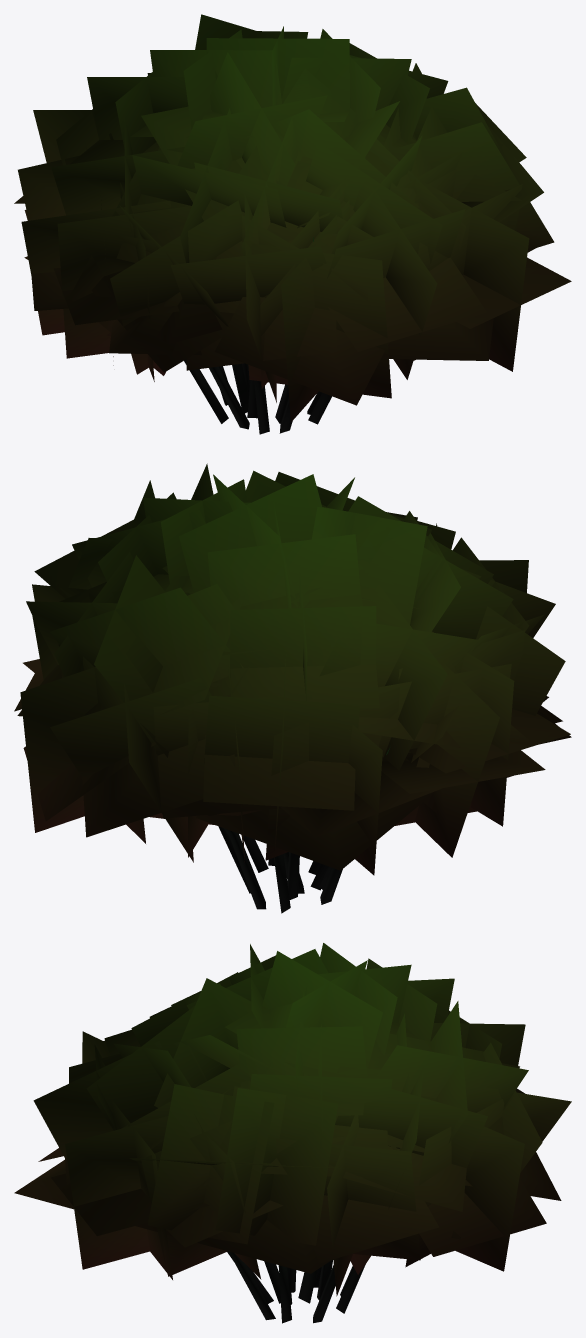
File: TGV_Bush_01B.fbx
3 renders of one model, top to bottom at view 1: azimuth 30°, elevation 25°; view 2: azimuth 150°, elevation 25°; view 3: azimuth 270°, elevation 25°, orthographic. The views are drawn at different scales.
Parts seen in each view (by area): view 1: TGV_Bush_01B_LOD0; view 2: TGV_Bush_01B_LOD0; view 3: TGV_Bush_01B_LOD0.
Part boxes in pixels (x1=…): TGV_Bush_01B_LOD0: x1=14, y1=14, x2=571, y2=434; TGV_Bush_01B_LOD0: x1=14, y1=463, x2=571, y2=913; TGV_Bush_01B_LOD0: x1=14, y1=943, x2=571, y2=1323.
Size of the model in its own units: 222 by 170 by 241.
